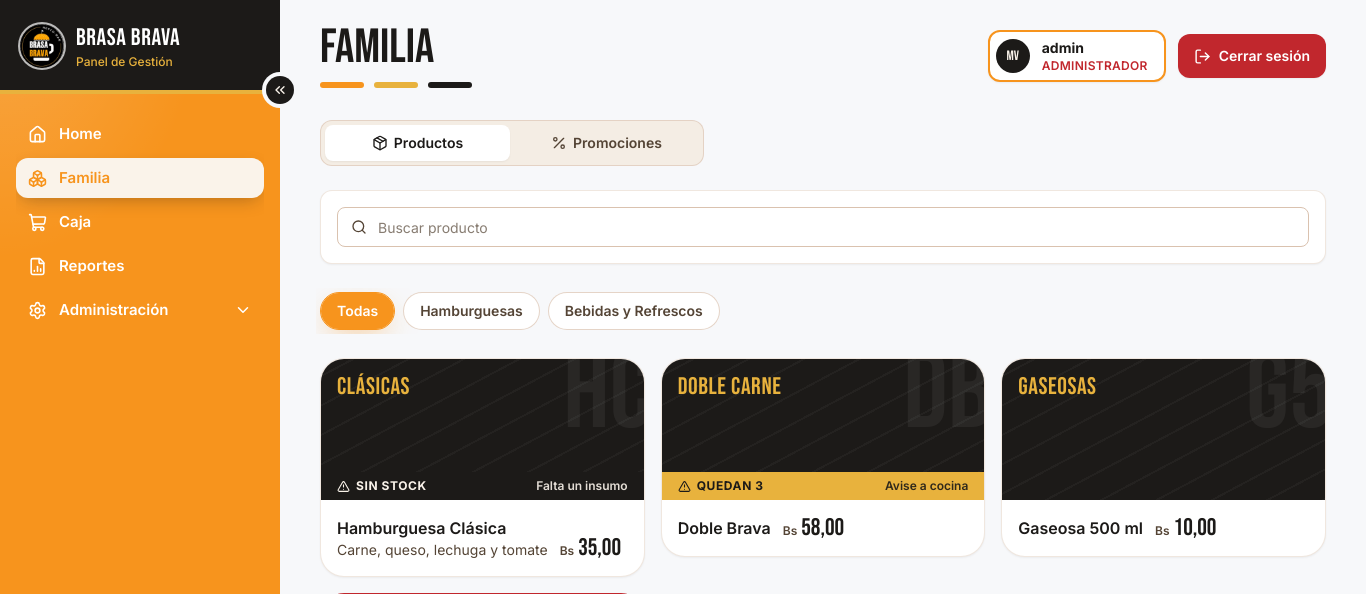
Test: Familia: catálogo del local › filtra por categoría, subcategoría y búsqueda sin tildes, guardando todo en la dirección
expect the button with aria-label "Ver Doble Brava" is shown: met, box [661, 358, 985, 557]
Click the radio button labelled "Bebidas y Refrescos" at point(634, 311), box [548, 292, 720, 330]
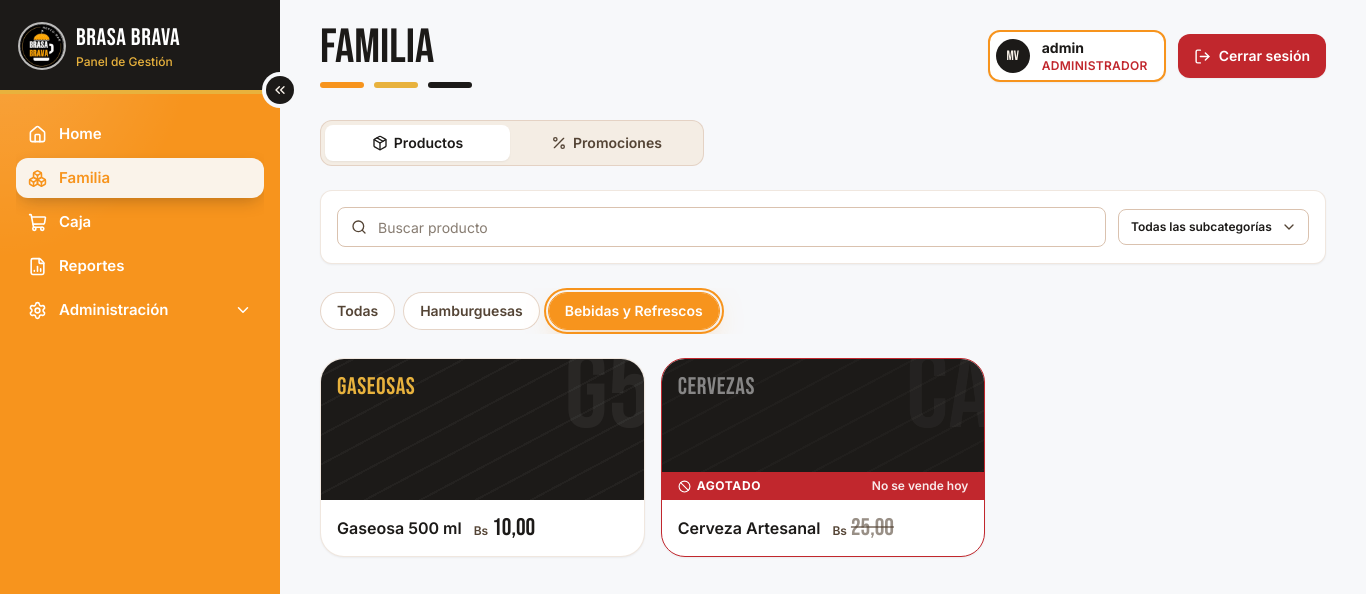
Select "Cervezas" in the dropdown named "Filtrar por subcategoría" at point(1214, 227), box [1118, 209, 1309, 245]
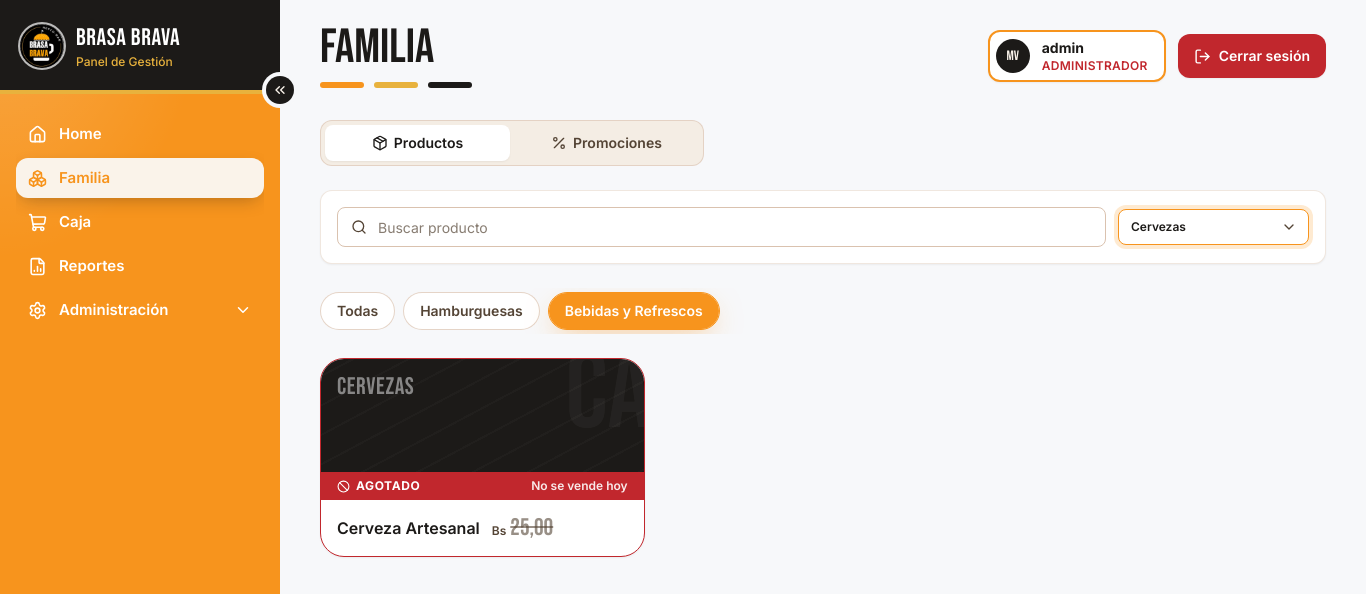
Click the radio button labelled "Todas" at point(358, 311), box [320, 292, 395, 330]
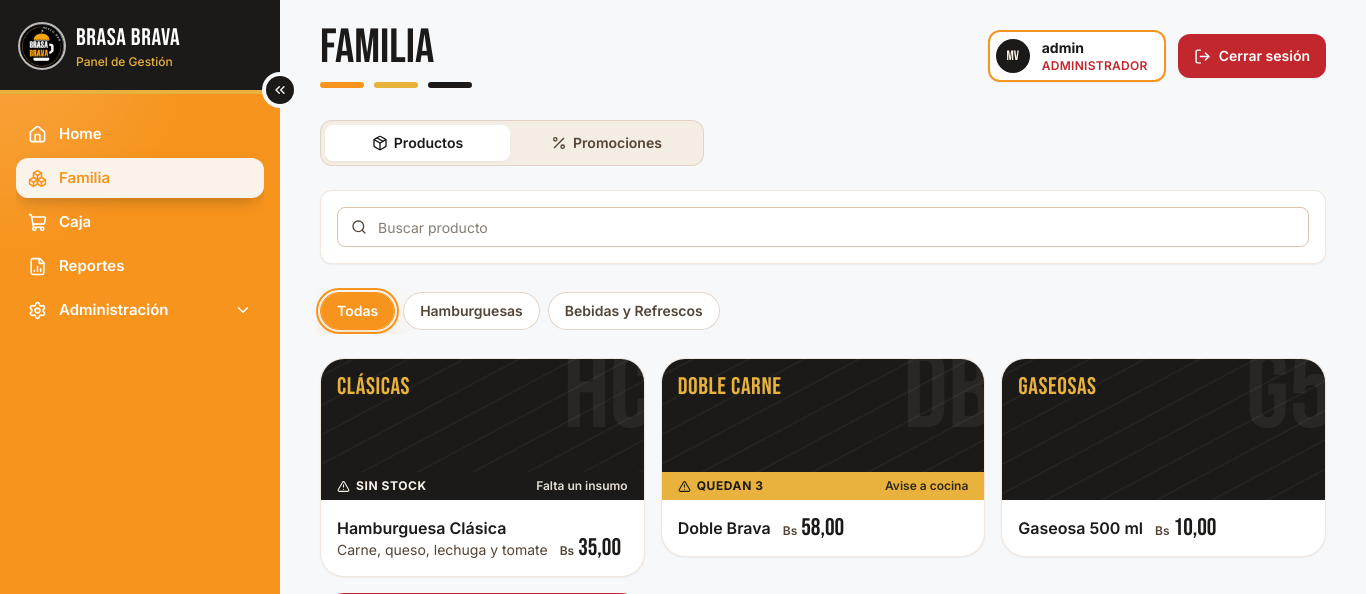
Type "clasica" into the search field at point(823, 227), box [337, 207, 1309, 247]
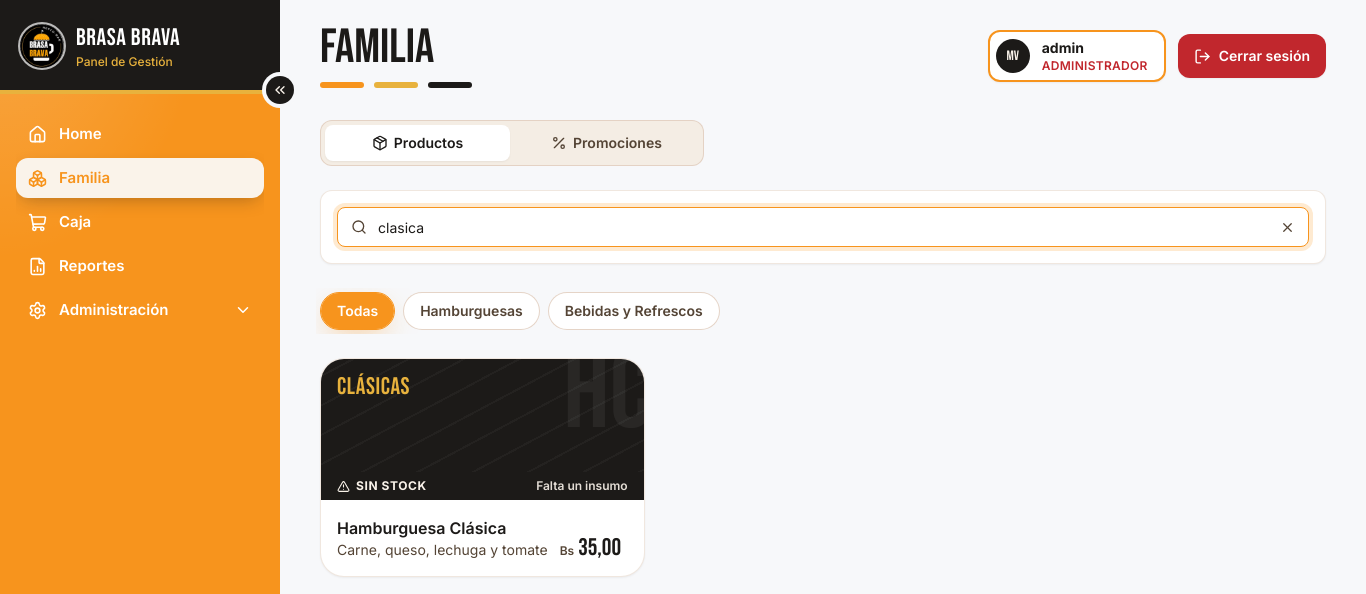
Replace the text in the search field with "pizza" at point(823, 227), box [337, 207, 1309, 247]
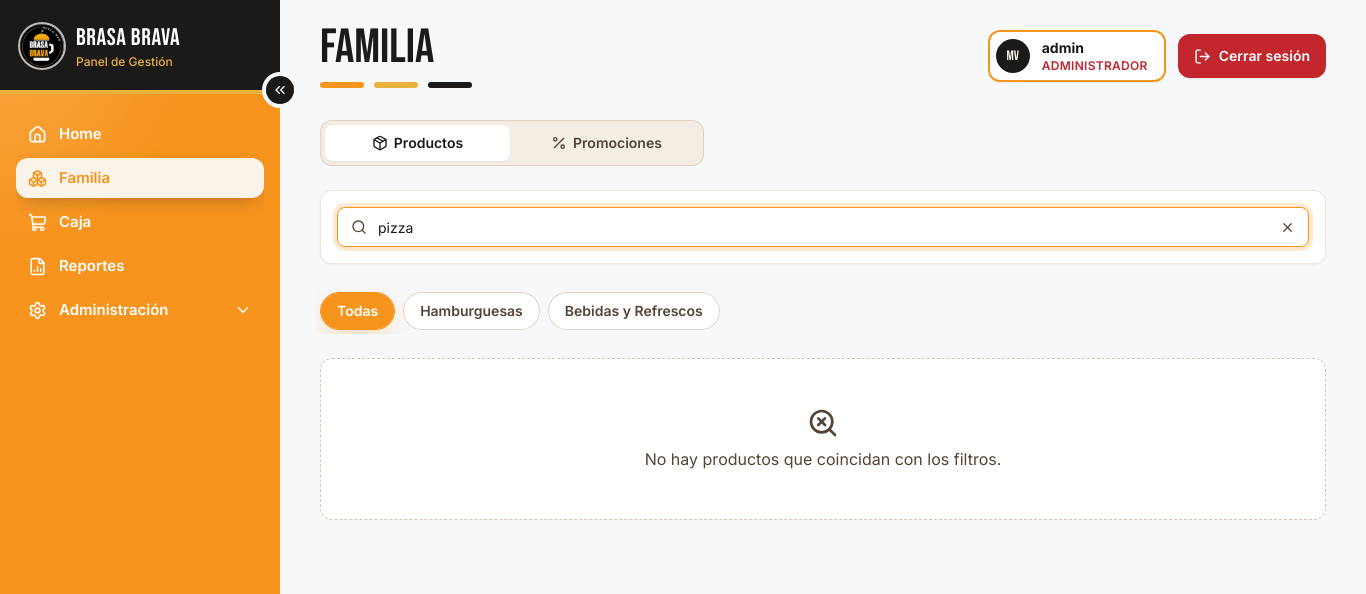
expect the text "No hay productos que coincidan con los filtros." is shown: met, box [320, 358, 1326, 520]
